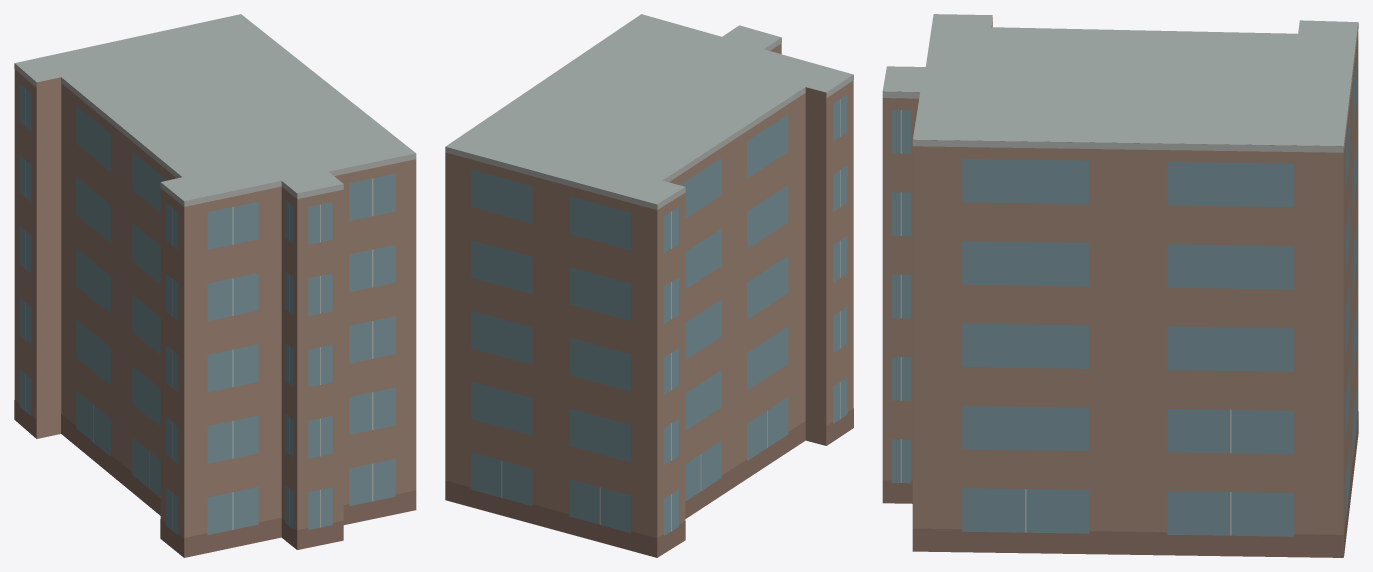
The model's file is survey-upis-32996527.glb.
3 views of the same model, side by side, from view 1: azimuth 30°, elevation 25°; view 2: azimuth 150°, elevation 25°; view 3: azimuth 270°, elevation 25° (orthographic). The views are drawn at different scales.
Parts seen in each view (by area): view 1: survey-upis-32996527.tmp; view 2: survey-upis-32996527.tmp; view 3: survey-upis-32996527.tmp.
Boxes of the visible parts, left/top/right/bottom form: survey-upis-32996527.tmp: left=14, top=14, right=416, bottom=557; survey-upis-32996527.tmp: left=445, top=14, right=853, bottom=557; survey-upis-32996527.tmp: left=882, top=14, right=1358, bottom=557.
Size of the model in its own units: 10.51 by 15.25 by 15.98.
